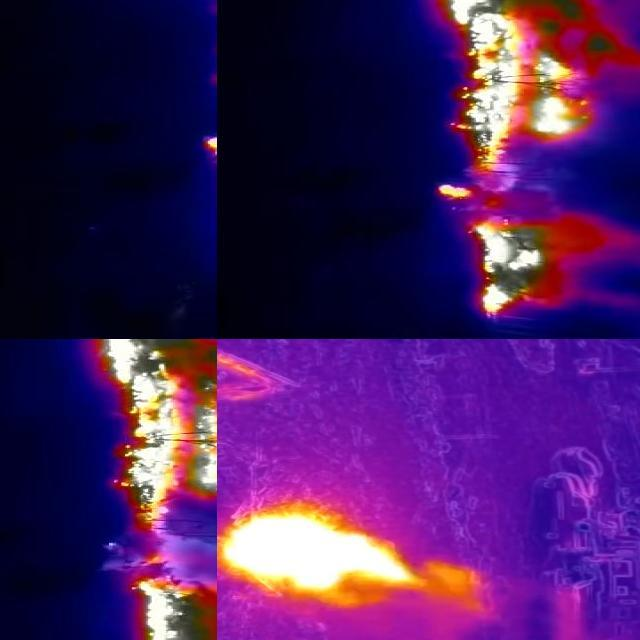fire: (433, 1, 625, 203), (101, 340, 218, 533), (218, 510, 438, 604), (467, 214, 599, 320), (129, 547, 218, 640)
